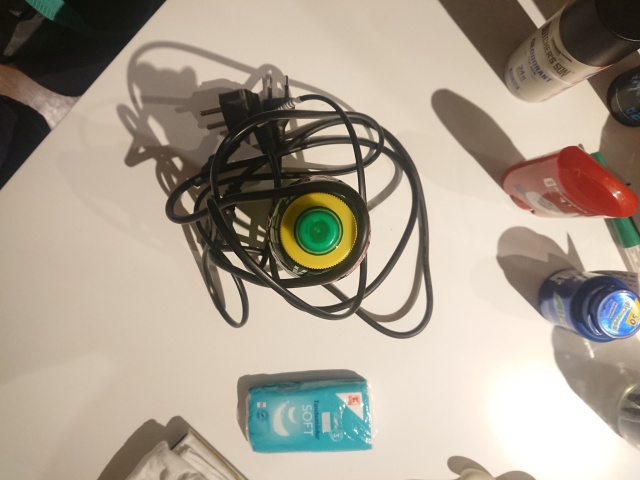Vindi Iso Sport Lemon-Grapefruit 500mL: (264, 172, 373, 287)
